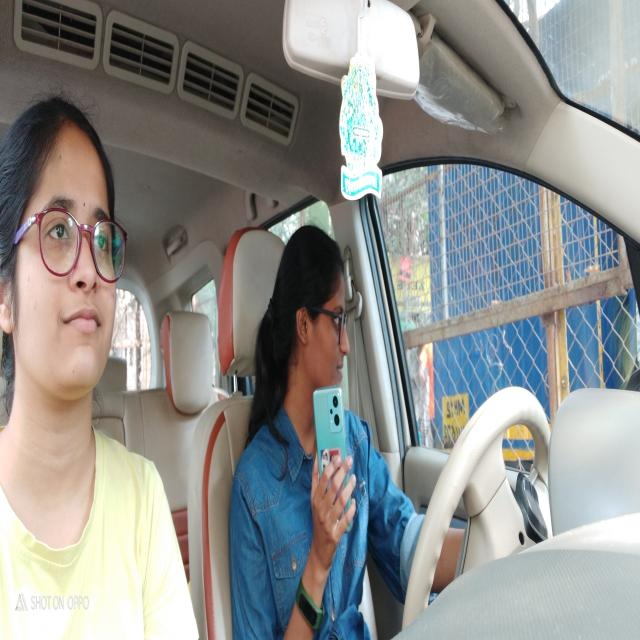mobile: (308, 378, 356, 535)
person: (0, 95, 130, 398), (274, 224, 351, 398)
